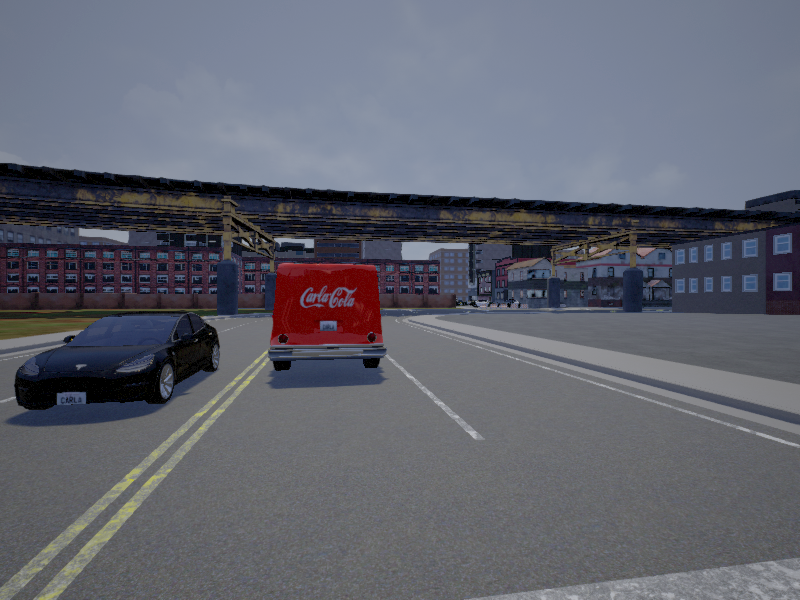Benign: (15, 313, 220, 403), (269, 263, 386, 370)
